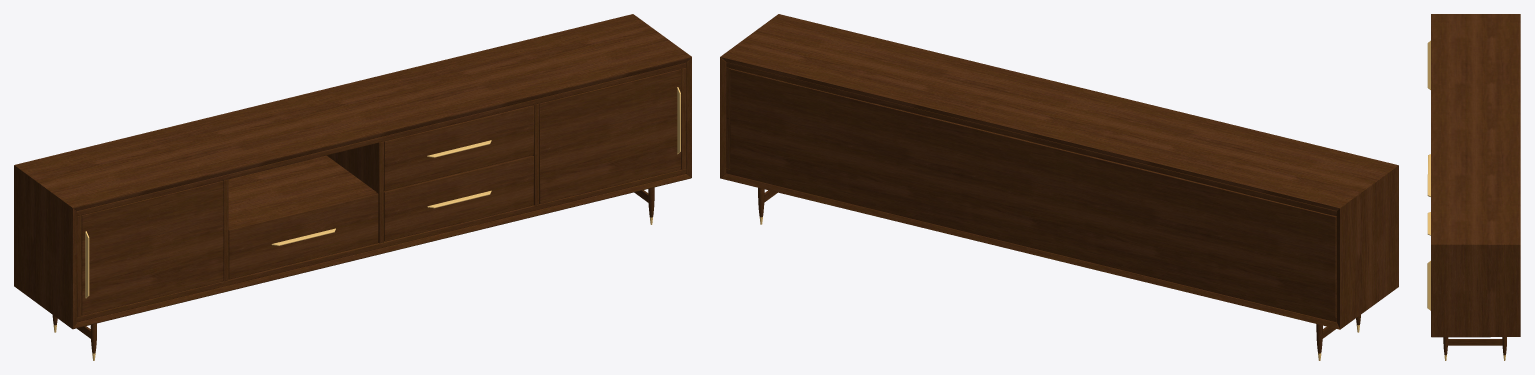
Rendered from simple-cabinet.glb.
3 renders of one model, left to right at view 1: azimuth 30°, elevation 25°; view 2: azimuth 150°, elevation 25°; view 3: azimuth 270°, elevation 25°, orthographic. The views are drawn at different scales.
Visible parts, largest first — view 1: simple-cabinet; view 2: simple-cabinet; view 3: simple-cabinet.
Part boxes in pixels (x1,y1,x2,y2): simple-cabinet: [14, 14, 691, 360]; simple-cabinet: [720, 14, 1398, 360]; simple-cabinet: [1427, 14, 1520, 360].
Size of the model in its own units: 2.4 by 0.6197 by 0.4101.
Materials: 2 (1 with a texture image).
